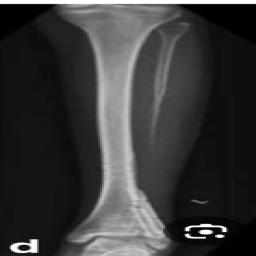cancer: (128, 87, 169, 196)
